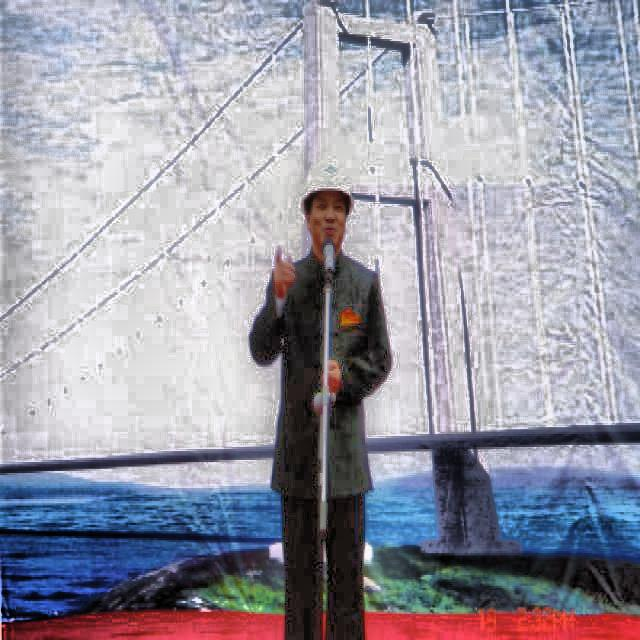person: (250, 145, 404, 640)
